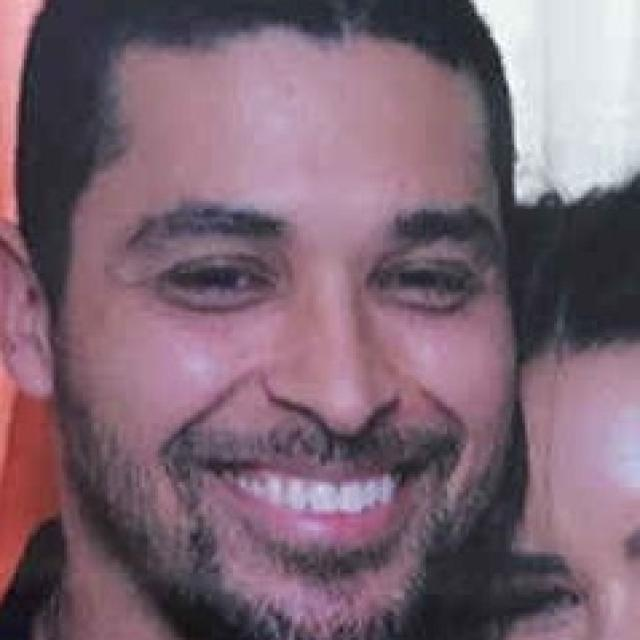Normal: (59, 25, 521, 637)
